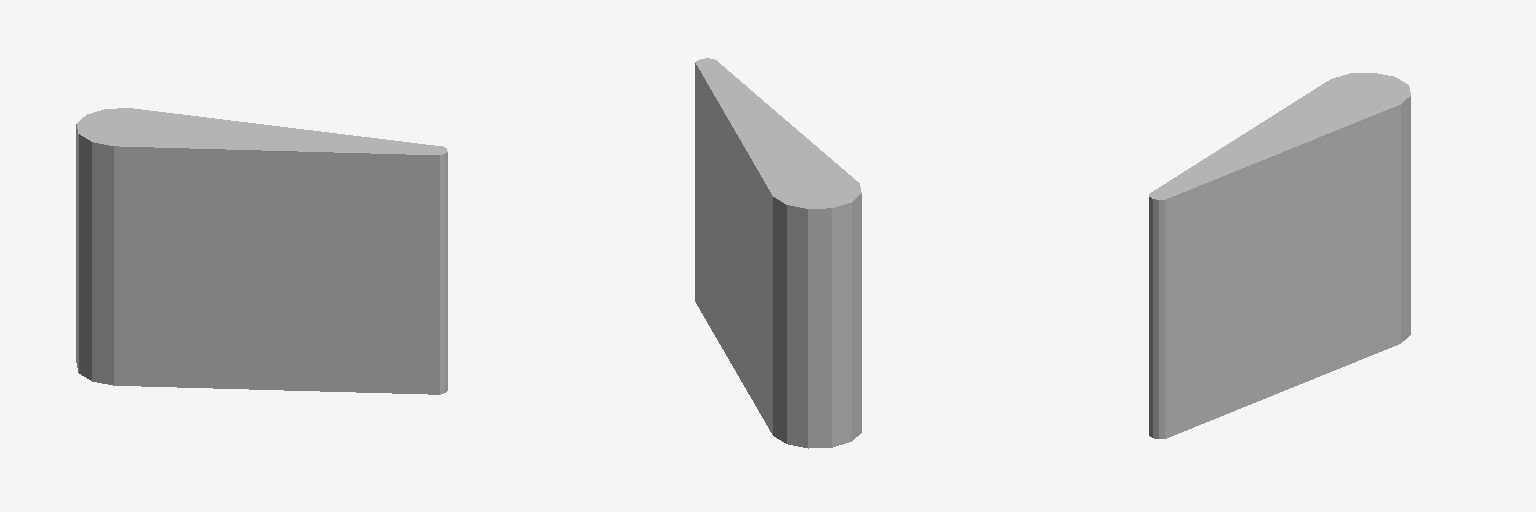
File: l_flipper.obj
The picture shows the model from 3 angles: view 1: azimuth 30°, elevation 25°; view 2: azimuth 150°, elevation 25°; view 3: azimuth 270°, elevation 25°; orthographic projection.
Visible parts, largest first — view 1: Circle.001_Circle.002; view 2: Circle.001_Circle.002; view 3: Circle.001_Circle.002.
Part boxes in pixels (x1,y1,x2,y2): Circle.001_Circle.002: (76, 108, 447, 394); Circle.001_Circle.002: (695, 58, 861, 448); Circle.001_Circle.002: (1149, 73, 1410, 438).
Size of the model in its own units: 0.9996 by 0.8756 by 0.8694.